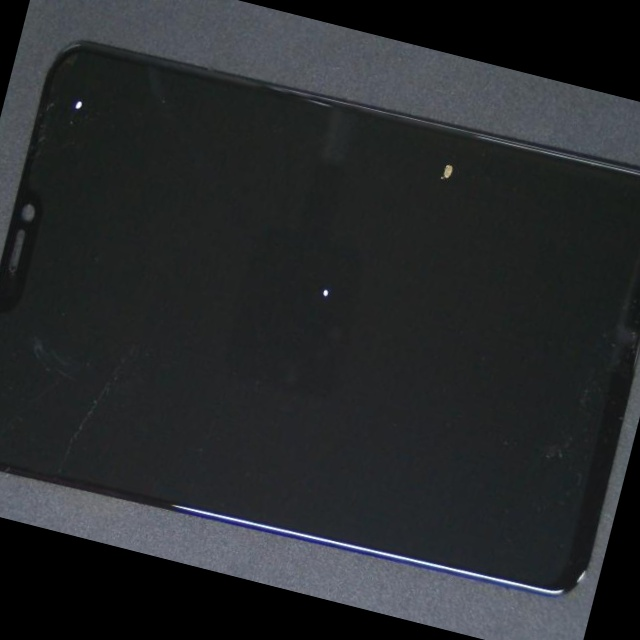stain: (140, 69, 537, 435), (232, 15, 640, 271), (33, 0, 131, 171)
